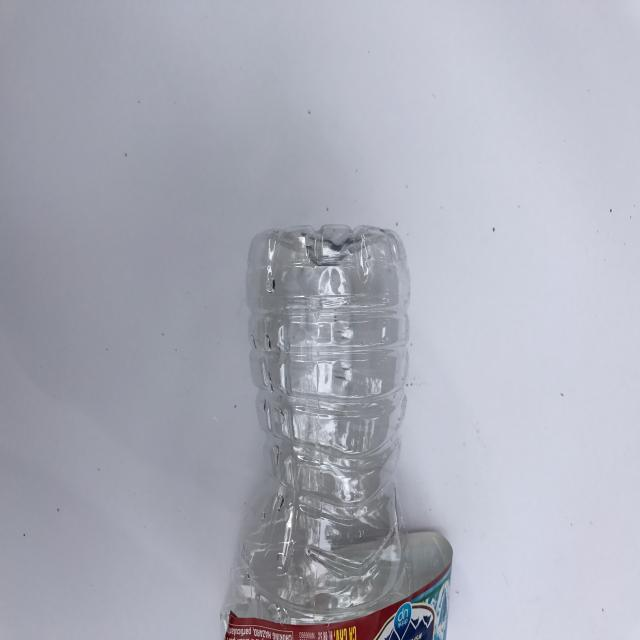plastic: (212, 225, 453, 640)
